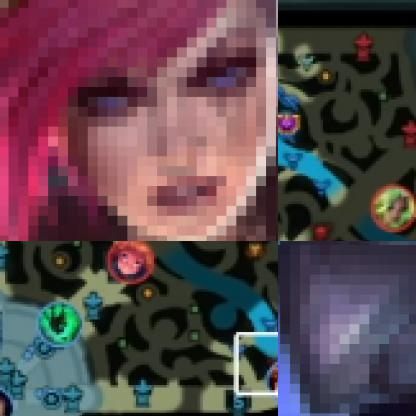Caitlyn: (0, 389, 16, 415)
Miss Fortune: (266, 360, 277, 406)
Shen: (278, 241, 415, 415)
Thresh: (36, 301, 84, 348)
Vi: (0, 0, 277, 240)
Zeri: (370, 185, 415, 234)
Zoe: (107, 241, 157, 285)
